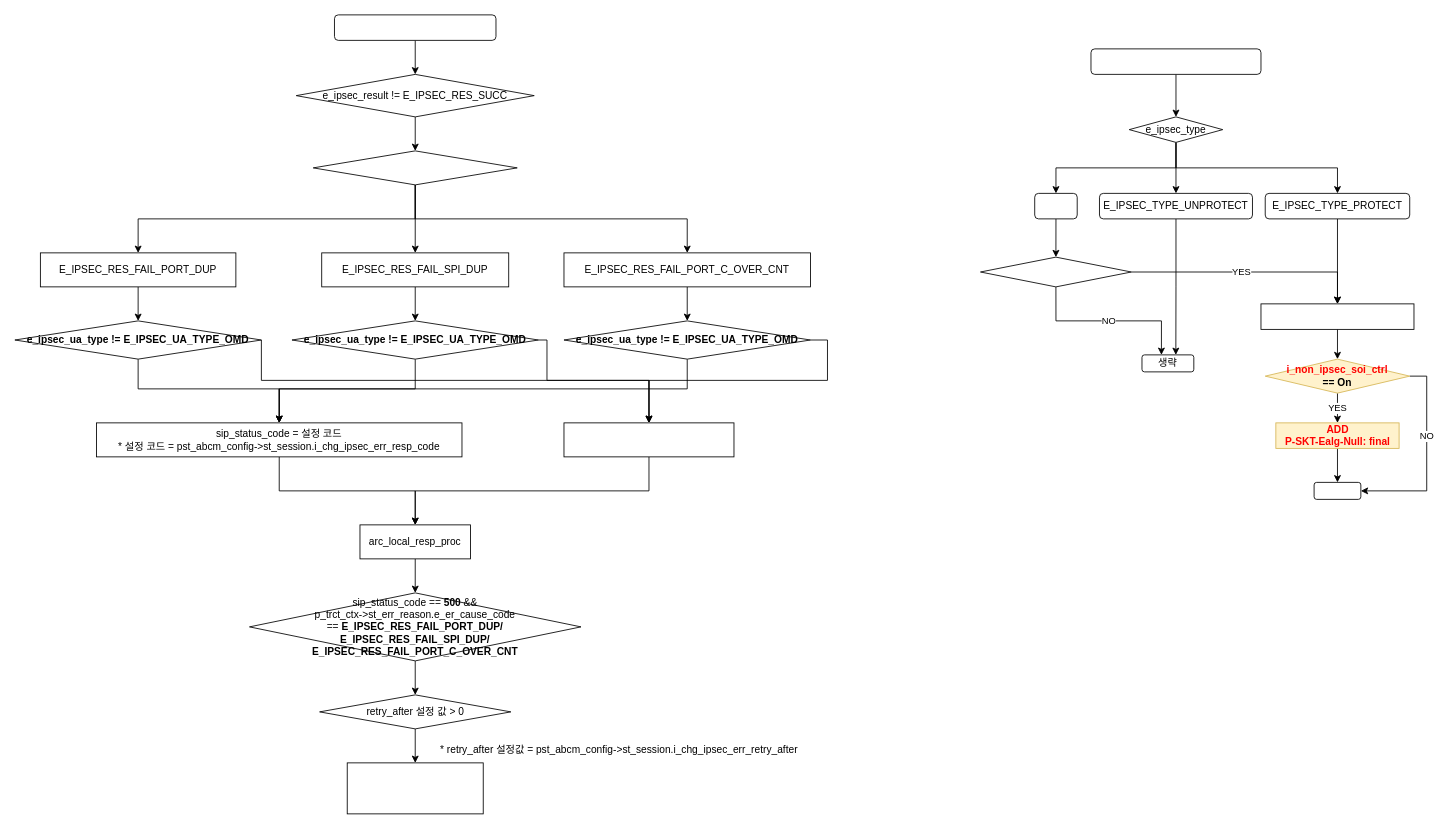
Some shapes in this 1448 by 829 pixel diagram are drawn without their labels. The shapes that lost their labels are listed below. From the top down, each one's centre as x and y in pixels, then its label:
(415,27): arc_ipsec_ipc_resp_proc
(1175,61): mgrex_set_authorization_header
(414,167): p_ipsec_resp->e_ipsec_result
(1055,206): else
(1055,271): exist Security-Verify?
(1337,316): Add integrity-protected="yes"
(648,439): sip_status_code = OTHER CODE
(1337,490): END
(414,788): Retry-After 헤더 retry_after 설정 값으로 세팅
